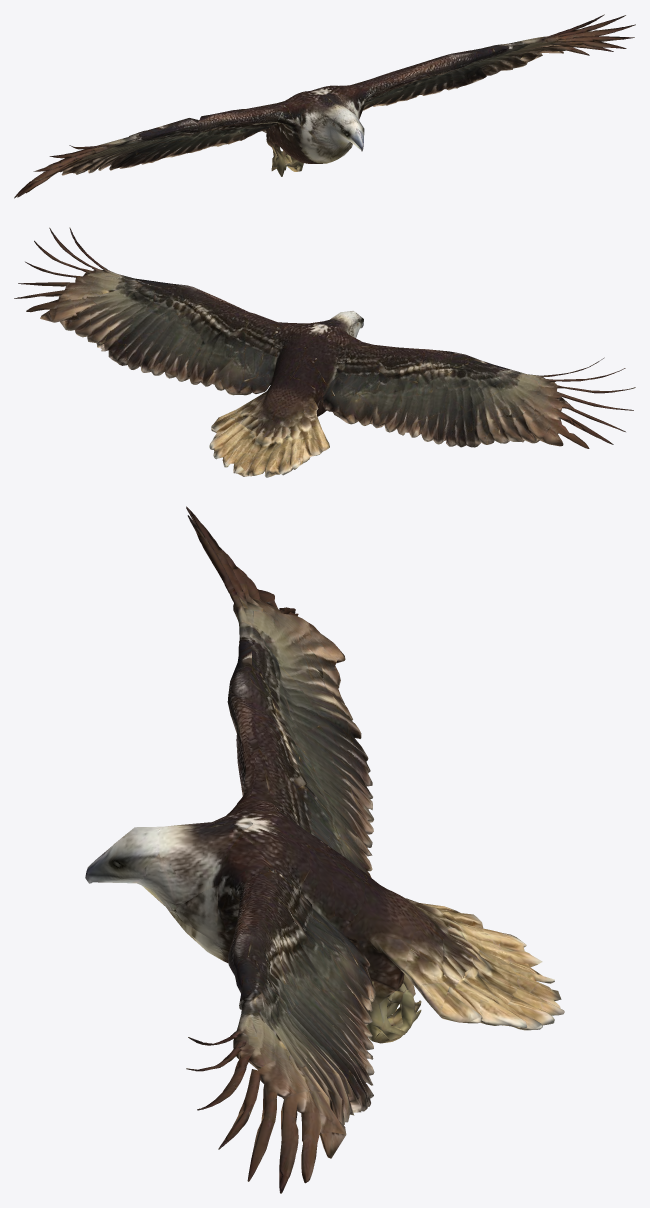
Rendered from hawk_lo.glb.
The picture shows the model from 3 angles, top to bottom: view 1: azimuth 30°, elevation 25°; view 2: azimuth 150°, elevation 25°; view 3: azimuth 270°, elevation 25°; orthographic projection. The views are drawn at different scales.
Visible parts, largest first — view 1: Object_5; view 2: Object_5; view 3: Object_5.
Boxes of the visible parts, x1,y1,x2,y2 form: Object_5: (14, 14, 635, 198); Object_5: (14, 227, 635, 477); Object_5: (85, 506, 564, 1193).
Size of the model in its own units: 1.89 by 0.3853 by 0.6434.
Materials: 1 (1 with a texture image).
